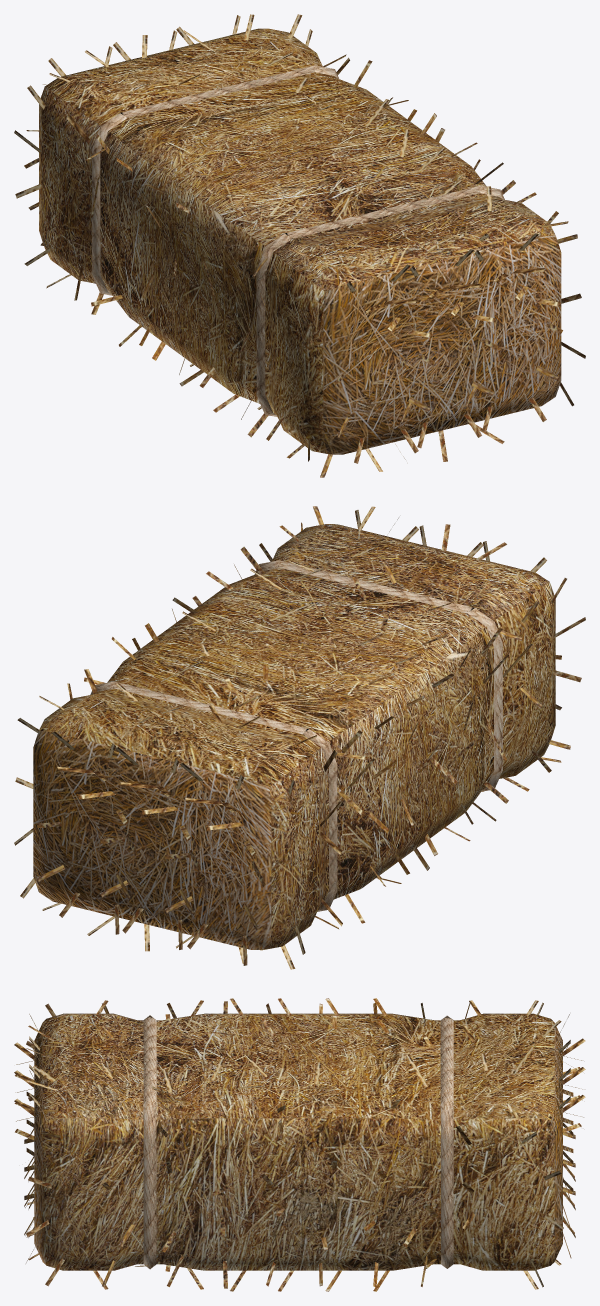
File: tben.obj
3 renders of one model, top to bottom at view 1: azimuth 30°, elevation 25°; view 2: azimuth 150°, elevation 25°; view 3: azimuth 270°, elevation 25°, orthographic. The views are drawn at different scales.
Visible parts, largest first — view 1: Cube.120_M_Hay_Atlas_01_TwoSided_0, Cube.192_M_Hay_Atlas_01_0, Cube.178_M_Hay_Atlas_01_0, Cube.189_M_Hay_Atlas_01_0, Cube.176_M_Hay_Atlas_01_0, Cube.180_M_Hay_Atlas_01_0, Cube.182_M_Hay_Atlas_01_0, Cube.181_M_Hay_Atlas_01_0, Cube.177_M_Hay_Atlas_01_0, Cube.175_M_Hay_Atlas_01_0; view 2: Cube.120_M_Hay_Atlas_01_TwoSided_0, Cube.189_M_Hay_Atlas_01_0, Cube.192_M_Hay_Atlas_01_0, Cube.175_M_Hay_Atlas_01_0, Cube.177_M_Hay_Atlas_01_0, Cube.178_M_Hay_Atlas_01_0, Cube.185_M_Hay_Atlas_01_0, Cube.183_M_Hay_Atlas_01_0, Cube.184_M_Hay_Atlas_01_0, Cube.176_M_Hay_Atlas_01_0; view 3: Cube.120_M_Hay_Atlas_01_TwoSided_0, Cube.190_M_Hay_Atlas_01_0, Cube.188_M_Hay_Atlas_01_0, Cube.176_M_Hay_Atlas_01_0, Cube.177_M_Hay_Atlas_01_0, Cube.175_M_Hay_Atlas_01_0, Cube.178_M_Hay_Atlas_01_0, Cube.183_M_Hay_Atlas_01_0, Cube.184_M_Hay_Atlas_01_0, Cube.185_M_Hay_Atlas_01_0, Cube.182_M_Hay_Atlas_01_0, Cube.181_M_Hay_Atlas_01_0.
Part boxes in pixels (left/top/right/bottom): Cube.120_M_Hay_Atlas_01_TwoSided_0: left=39, top=28, right=561, bottom=454; Cube.192_M_Hay_Atlas_01_0: left=24, top=248, right=332, bottom=477; Cube.178_M_Hay_Atlas_01_0: left=288, top=14, right=577, bottom=243; Cube.189_M_Hay_Atlas_01_0: left=14, top=130, right=313, bottom=405; Cube.176_M_Hay_Atlas_01_0: left=183, top=14, right=522, bottom=241; Cube.180_M_Hay_Atlas_01_0: left=334, top=264, right=434, bottom=463; Cube.182_M_Hay_Atlas_01_0: left=462, top=233, right=562, bottom=432; Cube.181_M_Hay_Atlas_01_0: left=398, top=249, right=498, bottom=448; Cube.177_M_Hay_Atlas_01_0: left=27, top=73, right=309, bottom=302; Cube.175_M_Hay_Atlas_01_0: left=85, top=35, right=448, bottom=267; Cube.120_M_Hay_Atlas_01_TwoSided_0: left=33, top=524, right=555, bottom=950; Cube.189_M_Hay_Atlas_01_0: left=285, top=617, right=585, bottom=904; Cube.192_M_Hay_Atlas_01_0: left=281, top=740, right=570, bottom=969; Cube.175_M_Hay_Atlas_01_0: left=155, top=524, right=506, bottom=760; Cube.177_M_Hay_Atlas_01_0: left=269, top=578, right=566, bottom=795; Cube.178_M_Hay_Atlas_01_0: left=17, top=506, right=323, bottom=732; Cube.185_M_Hay_Atlas_01_0: left=165, top=763, right=265, bottom=965; Cube.183_M_Hay_Atlas_01_0: left=37, top=731, right=137, bottom=934; Cube.184_M_Hay_Atlas_01_0: left=100, top=747, right=200, bottom=949; Cube.176_M_Hay_Atlas_01_0: left=74, top=506, right=398, bottom=723; Cube.120_M_Hay_Atlas_01_TwoSided_0: left=34, top=1013, right=562, bottom=1270; Cube.190_M_Hay_Atlas_01_0: left=45, top=1255, right=543, bottom=1291; Cube.188_M_Hay_Atlas_01_0: left=26, top=1158, right=563, bottom=1252; Cube.176_M_Hay_Atlas_01_0: left=27, top=1047, right=534, bottom=1093; Cube.177_M_Hay_Atlas_01_0: left=45, top=998, right=543, bottom=1018; Cube.175_M_Hay_Atlas_01_0: left=26, top=1014, right=563, bottom=1060; Cube.178_M_Hay_Atlas_01_0: left=37, top=1099, right=536, bottom=1151; Cube.183_M_Hay_Atlas_01_0: left=558, top=1069, right=585, bottom=1258; Cube.184_M_Hay_Atlas_01_0: left=558, top=1041, right=585, bottom=1225; Cube.185_M_Hay_Atlas_01_0: left=558, top=1014, right=585, bottom=1198; Cube.182_M_Hay_Atlas_01_0: left=14, top=1070, right=40, bottom=1262; Cube.181_M_Hay_Atlas_01_0: left=14, top=1041, right=39, bottom=1235.
Bounding box in the file's own units: 1.19 × 0.8545 × 2.16.
